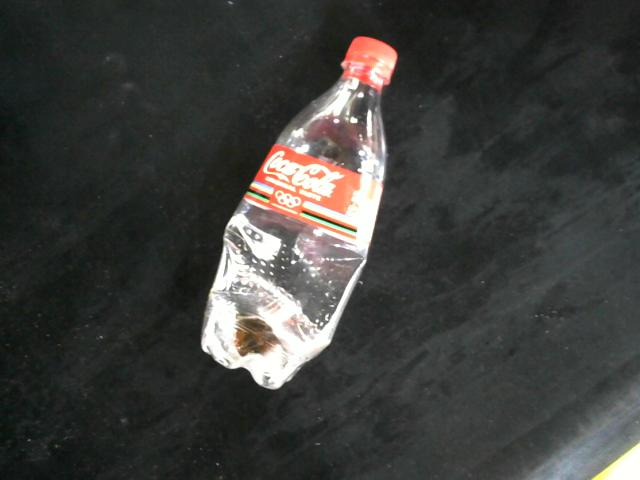bottle: (200, 34, 400, 391)
